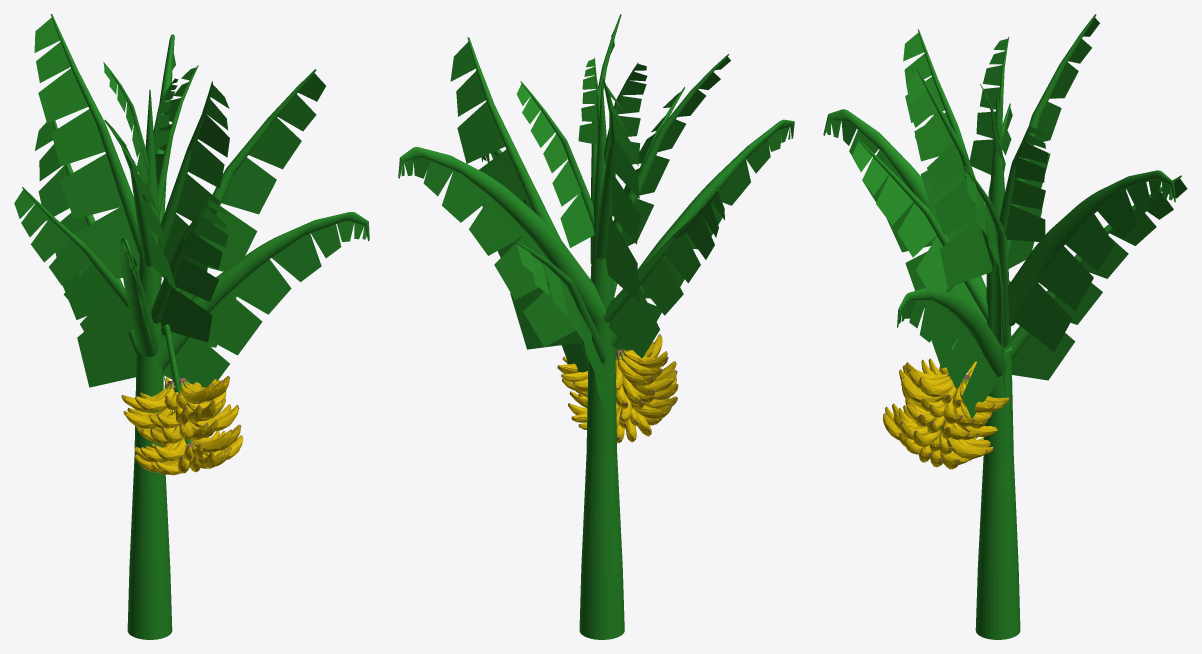
Rendered from caychuoi.glb.
3 renders of one model, left to right at view 1: azimuth 30°, elevation 25°; view 2: azimuth 150°, elevation 25°; view 3: azimuth 270°, elevation 25°, orthographic.
Visible parts, largest first — view 1: Plane.010, Circle.009, Circle.008, Circle.013, Plane.004, Plane.012, Plane.011, Plane.006, Plane.009, Plane.003, Circle.006, Plane.005 (+3 smaller); view 2: Circle.008, Circle.007, Plane.004, Plane.012, Circle.013, Plane.010, Circle.006, Plane.005, Plane.009, Plane.003, Plane.002, Plane.007 (+3 smaller); view 3: Circle.007, Circle.008, Circle.013, Plane.006, Circle.009, Plane.011, Plane.009, Circle.006, Plane.005, Plane.010, Plane.004, Plane.003 (+1 smaller).
Boxes of the visible parts, <box> form: Plane.010: <box>34,14,140,278</box>; Circle.009: <box>160,212,369,387</box>; Circle.008: <box>127,89,172,639</box>; Circle.013: <box>121,324,243,475</box>; Plane.004: <box>176,69,325,347</box>; Plane.012: <box>14,187,133,351</box>; Plane.011: <box>151,197,228,342</box>; Plane.006: <box>158,81,229,271</box>; Plane.009: <box>35,120,136,387</box>; Plane.003: <box>104,120,177,291</box>; Circle.006: <box>120,238,168,392</box>; Plane.005: <box>155,65,198,215</box>; Circle.008: <box>579,82,624,639</box>; Circle.007: <box>398,147,606,347</box>; Plane.004: <box>450,37,582,349</box>; Plane.012: <box>604,190,724,358</box>; Circle.013: <box>557,334,678,443</box>; Plane.010: <box>594,78,639,302</box>; Circle.006: <box>608,119,794,349</box>; Plane.005: <box>516,81,594,247</box>; Plane.009: <box>514,241,612,420</box>; Plane.003: <box>614,54,730,245</box>; Plane.002: <box>604,62,647,164</box>; Plane.007: <box>578,57,600,144</box>; Circle.007: <box>1008,170,1175,351</box>; Circle.008: <box>975,90,1020,639</box>; Circle.013: <box>883,358,1009,469</box>; Plane.006: <box>906,69,994,287</box>; Circle.009: <box>897,288,1007,418</box>; Plane.011: <box>852,138,988,350</box>; Plane.009: <box>1011,175,1187,380</box>; Circle.006: <box>823,109,1012,368</box>; Plane.005: <box>999,124,1047,241</box>; Plane.010: <box>990,14,1099,278</box>; Plane.004: <box>963,166,1009,398</box>; Plane.003: <box>903,29,973,243</box>.
Bounding box in the file's own units: 2.3 × 4.39 × 2.44.
27 materials, 11 textured.
